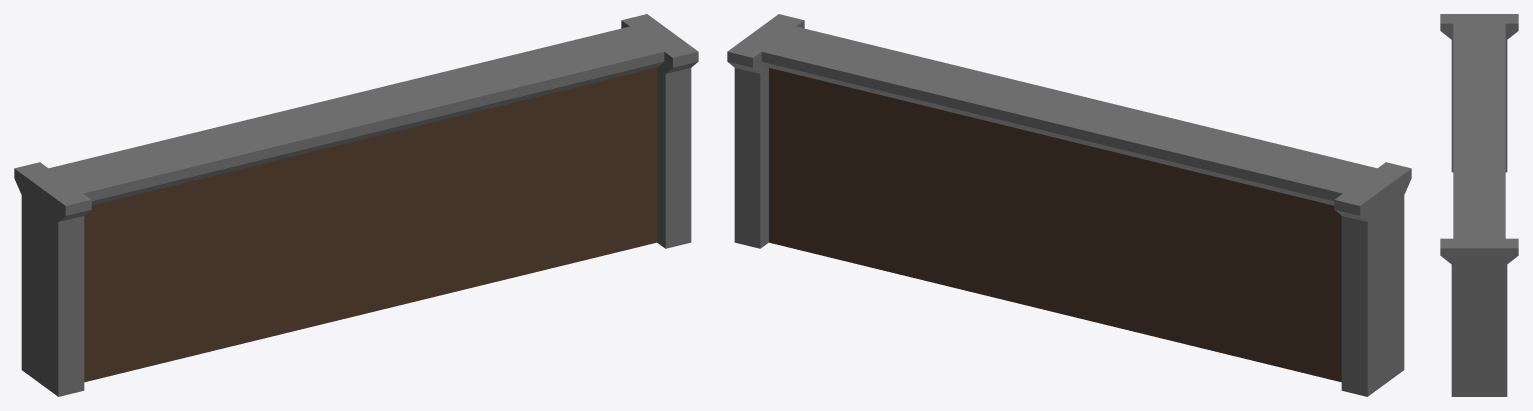
File: Tembok.fbx
The picture shows the model from 3 angles, left to right: view 1: azimuth 30°, elevation 25°; view 2: azimuth 150°, elevation 25°; view 3: azimuth 270°, elevation 25°; orthographic projection. The views are drawn at different scales.
Visible parts, largest first — view 1: Cube; view 2: Cube; view 3: Cube.
Boxes of the visible parts, <box> form: Cube: <box>14,14,698,396</box>; Cube: <box>727,14,1411,396</box>; Cube: <box>1440,14,1518,396</box>.
Bounding box in the file's own units: 1597 × 473 × 225.
